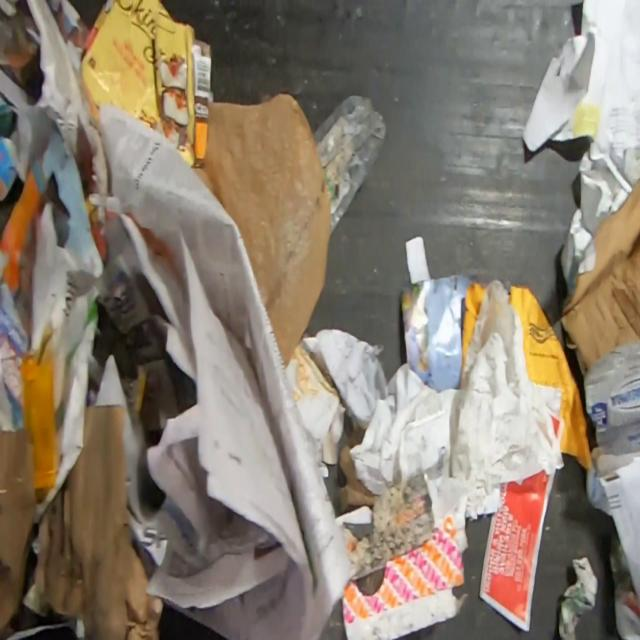cardboard: (30, 402, 165, 640), (78, 0, 214, 165), (0, 122, 95, 301), (558, 177, 640, 378), (340, 521, 470, 640), (583, 343, 640, 478), (0, 426, 36, 634), (336, 422, 380, 515), (290, 342, 346, 410)
rigid_plastic: (314, 93, 388, 239)
soft_plastic: (188, 90, 330, 371), (20, 350, 59, 502)
